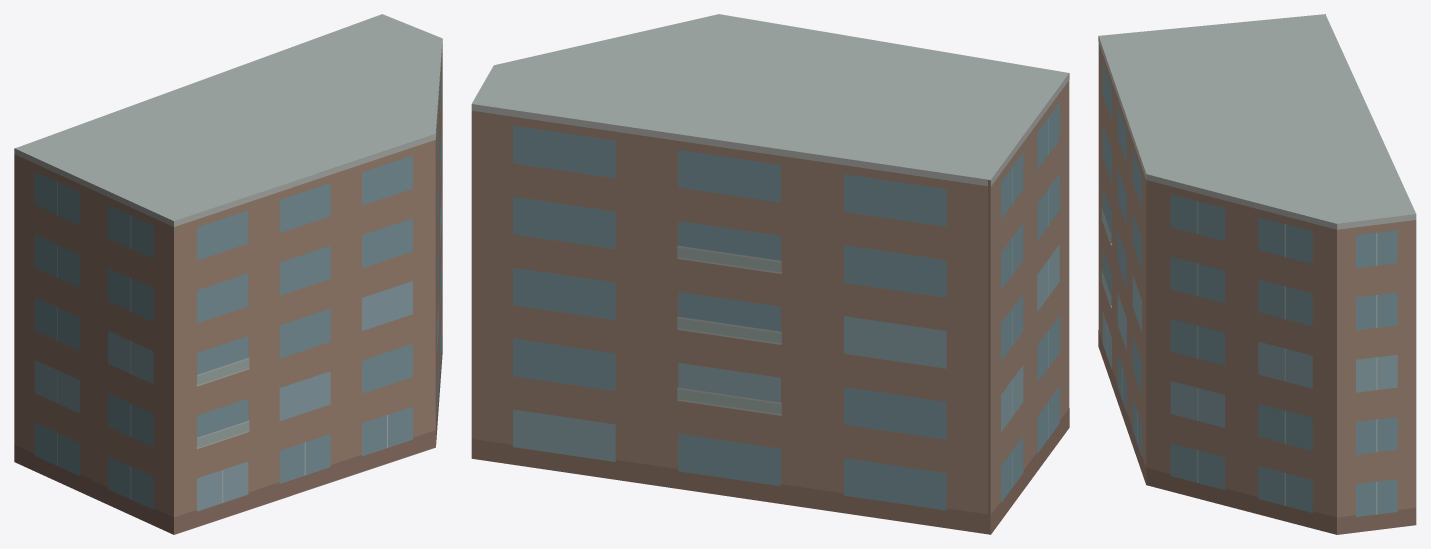
File: survey-upis-32534917.glb
3 views of the same model, side by side, from view 1: azimuth 30°, elevation 25°; view 2: azimuth 150°, elevation 25°; view 3: azimuth 270°, elevation 25° (orthographic). The views are drawn at different scales.
Parts seen in each view (by area): view 1: survey-upis-32534917.tmp; view 2: survey-upis-32534917.tmp; view 3: survey-upis-32534917.tmp.
Part boxes in pixels (x1,y1,x2,y2): survey-upis-32534917.tmp: [14, 14, 442, 534]; survey-upis-32534917.tmp: [471, 14, 1069, 534]; survey-upis-32534917.tmp: [1098, 14, 1416, 534].
Bounding box in the file's own units: 18.82 × 13 × 12.05.
